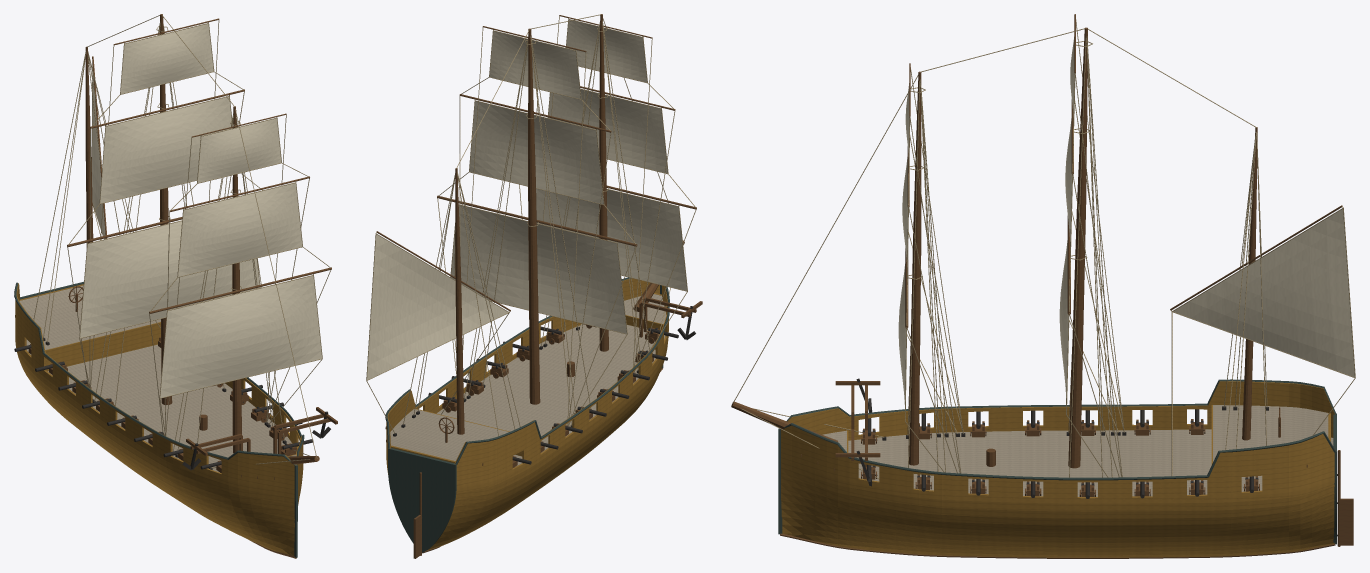
Rendered from ship.glb.
3 renders of one model, left to right at view 1: azimuth 30°, elevation 25°; view 2: azimuth 150°, elevation 25°; view 3: azimuth 270°, elevation 25°, orthographic. The views are drawn at different scales.
Visible parts, largest first — view 1: hull_shell_starboard, fore_square_00, main_square_00, main_deck, main_square_01, fore_square_01, main_square_02, fore_square_02, castle_deck_0, castle_bulkhead_0_1, hull_shell_port, mizzen (+7 smaller); view 2: main_square_00, hull_shell_starboard, main_deck, mizzen_lateen_00, main_square_01, fore_square_00, fore_square_01, stern_closure, main_square_02, castle_deck_0, fore_square_02, main (+16 smaller); view 3: hull_shell_port, mizzen_lateen_00, main_deck, hull_shell_starboard, main, castle_deck_0, fore, gunwale_port, mizzen, gunwale_starboard, keel, main_square_00.
Part boxes in pixels (<box>): hull_shell_starboard: <box>15,283,294,555</box>; fore_square_00: <box>160,276,321,397</box>; main_square_00: <box>80,221,259,337</box>; main_deck: <box>26,339,292,472</box>; main_square_01: <box>100,96,232,203</box>; fore_square_01: <box>178,183,302,276</box>; main_square_02: <box>120,23,213,93</box>; fore_square_02: <box>197,118,281,182</box>; castle_deck_0: <box>19,285,160,349</box>; castle_bulkhead_0_1: <box>45,322,160,371</box>; hull_shell_port: <box>225,378,303,505</box>; mizzen: <box>85,47,93,247</box>; main_square_00: <box>451,205,626,333</box>; hull_shell_starboard: <box>426,285,668,550</box>; main_deck: <box>437,324,665,466</box>; mizzen_lateen_00: <box>367,234,508,379</box>; main_square_01: <box>469,101,603,204</box>; fore_square_00: <box>536,188,687,290</box>; fore_square_01: <box>548,89,667,173</box>; stern_closure: <box>388,448,456,552</box>; main_square_02: <box>489,31,580,98</box>; castle_deck_0: <box>390,409,508,460</box>; fore_square_02: <box>566,19,647,82</box>; main: <box>528,28,540,404</box>; hull_shell_port: <box>781,425,1334,557</box>; mizzen_lateen_00: <box>1173,209,1354,377</box>; main_deck: <box>848,429,1333,496</box>; hull_shell_starboard: <box>787,381,1334,440</box>; main: <box>1068,27,1087,468</box>; castle_deck_0: <box>1213,405,1328,461</box>; fore: <box>908,71,921,465</box>; gunwale_port: <box>780,423,1336,480</box>; mizzen: <box>1242,127,1257,440</box>; gunwale_starboard: <box>786,379,1336,421</box>; keel: <box>780,533,1335,558</box>; main_square_00: <box>1059,240,1068,398</box>.
Size of the model in its own units: 13.03 by 28.52 by 30.4.
Materials: 7 (7 with a texture image).
